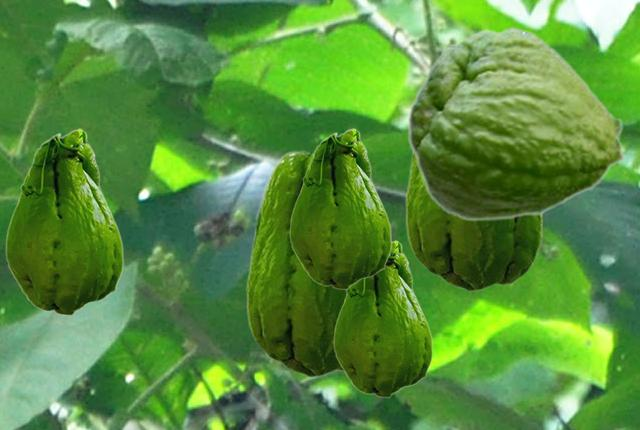sayote: (407, 26, 627, 221), (246, 147, 345, 377), (5, 128, 123, 315), (405, 150, 542, 291), (289, 128, 391, 289), (333, 240, 432, 397)
